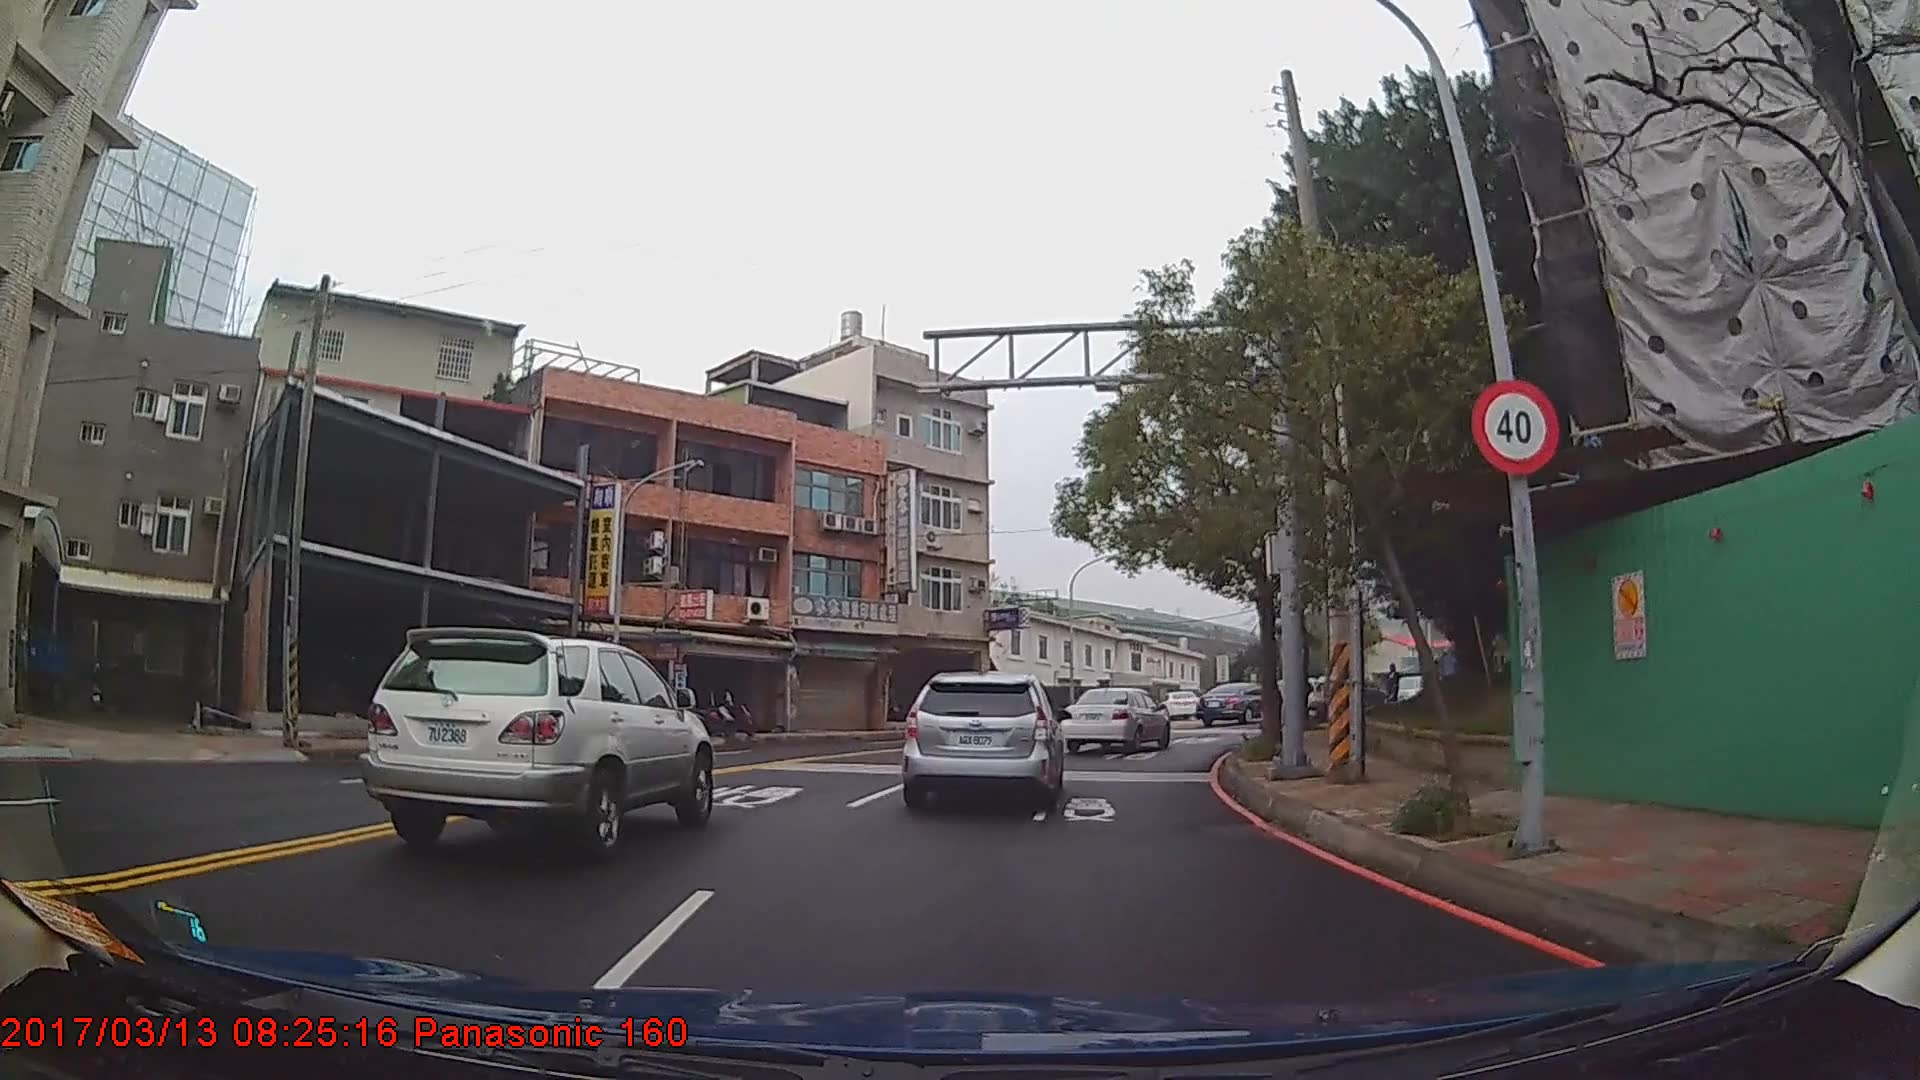vehicle: (357, 624, 713, 857), (901, 669, 1065, 811), (1058, 686, 1171, 752), (1193, 680, 1276, 727)
